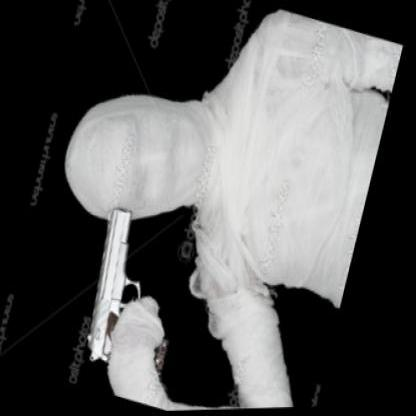pistol: (70, 194, 204, 390)
